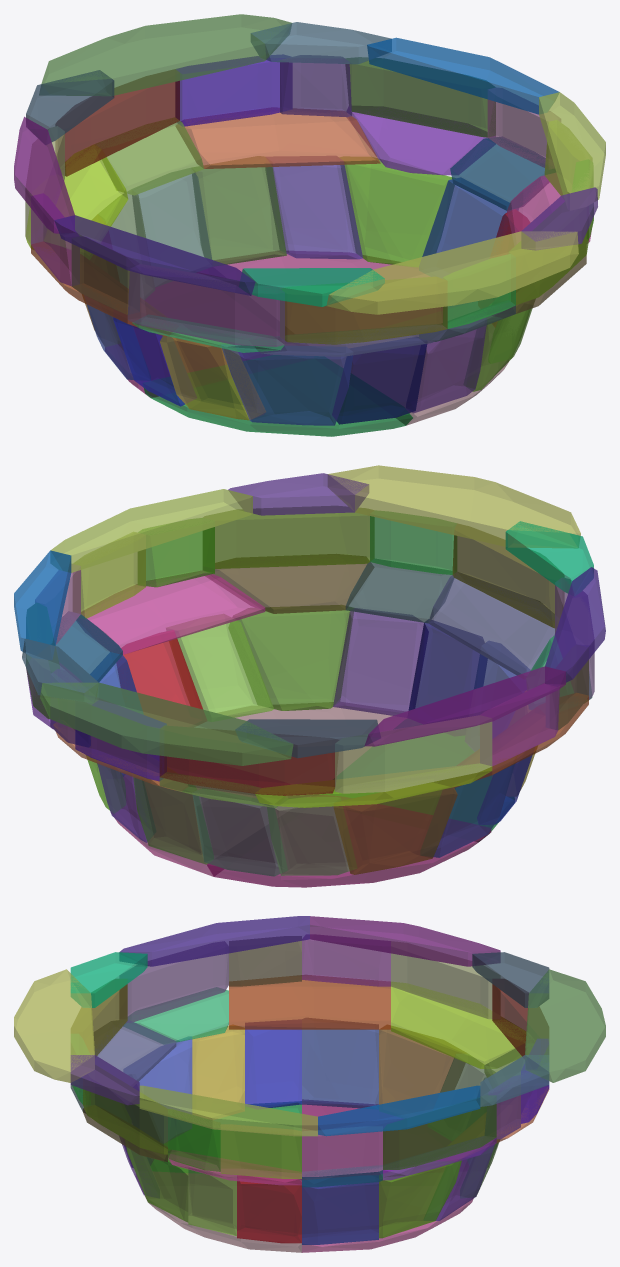
File: yellow_bowl.obj
3 renders of one model, top to bottom at view 1: azimuth 30°, elevation 25°; view 2: azimuth 150°, elevation 25°; view 3: azimuth 270°, elevation 25°, orthographic. The views are drawn at different scales.
Visible parts, largest first — view 1: Shape_IndexedFaceSet_Shape_IndexedFaceSet.435, Shape_IndexedFaceSet.005_Shape_IndexedFaceSet.440, Shape_IndexedFaceSet.001_Shape_IndexedFaceSet.436, Shape_IndexedFaceSet.026_Shape_IndexedFaceSet.461, Shape_IndexedFaceSet.028_Shape_IndexedFaceSet.463, Shape_IndexedFaceSet.021_Shape_IndexedFaceSet.456, Shape_IndexedFaceSet.023_Shape_IndexedFaceSet.458, Shape_IndexedFaceSet.006_Shape_IndexedFaceSet.441, Shape_IndexedFaceSet.048_Shape_IndexedFaceSet.483, Shape_IndexedFaceSet.018_Shape_IndexedFaceSet.453, Shape_IndexedFaceSet.019_Shape_IndexedFaceSet.454, Shape_IndexedFaceSet.004_Shape_IndexedFaceSet.439 (+43 smaller); view 2: Shape_IndexedFaceSet.003_Shape_IndexedFaceSet.438, Shape_IndexedFaceSet.005_Shape_IndexedFaceSet.440, Shape_IndexedFaceSet_Shape_IndexedFaceSet.435, Shape_IndexedFaceSet.011_Shape_IndexedFaceSet.446, Shape_IndexedFaceSet.034_Shape_IndexedFaceSet.469, Shape_IndexedFaceSet.025_Shape_IndexedFaceSet.460, Shape_IndexedFaceSet.024_Shape_IndexedFaceSet.459, Shape_IndexedFaceSet.040_Shape_IndexedFaceSet.475, Shape_IndexedFaceSet.004_Shape_IndexedFaceSet.439, Shape_IndexedFaceSet.022_Shape_IndexedFaceSet.457, Shape_IndexedFaceSet.010_Shape_IndexedFaceSet.445, Shape_IndexedFaceSet.015_Shape_IndexedFaceSet.450 (+43 smaller); view 3: Shape_IndexedFaceSet.004_Shape_IndexedFaceSet.439, Shape_IndexedFaceSet.002_Shape_IndexedFaceSet.437, Shape_IndexedFaceSet.029_Shape_IndexedFaceSet.464, Shape_IndexedFaceSet.039_Shape_IndexedFaceSet.474, Shape_IndexedFaceSet.005_Shape_IndexedFaceSet.440, Shape_IndexedFaceSet_Shape_IndexedFaceSet.435, Shape_IndexedFaceSet.003_Shape_IndexedFaceSet.438, Shape_IndexedFaceSet.014_Shape_IndexedFaceSet.449, Shape_IndexedFaceSet.015_Shape_IndexedFaceSet.450, Shape_IndexedFaceSet.028_Shape_IndexedFaceSet.463, Shape_IndexedFaceSet.048_Shape_IndexedFaceSet.483, Shape_IndexedFaceSet.001_Shape_IndexedFaceSet.436 (+42 smaller).
Boxes of the visible parts, x1,y1,x2,y2 form: Shape_IndexedFaceSet_Shape_IndexedFaceSet.435: [39, 14, 291, 95]; Shape_IndexedFaceSet.005_Shape_IndexedFaceSet.440: [326, 231, 578, 314]; Shape_IndexedFaceSet.001_Shape_IndexedFaceSet.436: [143, 355, 412, 436]; Shape_IndexedFaceSet.026_Shape_IndexedFaceSet.461: [176, 108, 380, 168]; Shape_IndexedFaceSet.028_Shape_IndexedFaceSet.463: [127, 264, 284, 346]; Shape_IndexedFaceSet.021_Shape_IndexedFaceSet.456: [340, 157, 454, 266]; Shape_IndexedFaceSet.023_Shape_IndexedFaceSet.458: [280, 277, 447, 344]; Shape_IndexedFaceSet.006_Shape_IndexedFaceSet.441: [222, 346, 352, 425]; Shape_IndexedFaceSet.048_Shape_IndexedFaceSet.483: [345, 57, 495, 137]; Shape_IndexedFaceSet.018_Shape_IndexedFaceSet.453: [192, 156, 286, 265]; Shape_IndexedFaceSet.019_Shape_IndexedFaceSet.454: [266, 156, 362, 259]; Shape_IndexedFaceSet.004_Shape_IndexedFaceSet.439: [214, 251, 467, 345]; Shape_IndexedFaceSet.003_Shape_IndexedFaceSet.438: [207, 795, 491, 887]; Shape_IndexedFaceSet.005_Shape_IndexedFaceSet.440: [327, 465, 580, 548]; Shape_IndexedFaceSet_Shape_IndexedFaceSet.435: [40, 682, 293, 765]; Shape_IndexedFaceSet.011_Shape_IndexedFaceSet.446: [229, 605, 353, 710]; Shape_IndexedFaceSet.034_Shape_IndexedFaceSet.469: [203, 506, 374, 568]; Shape_IndexedFaceSet.025_Shape_IndexedFaceSet.460: [159, 726, 338, 795]; Shape_IndexedFaceSet.024_Shape_IndexedFaceSet.459: [76, 570, 265, 654]; Shape_IndexedFaceSet.040_Shape_IndexedFaceSet.475: [335, 716, 492, 793]; Shape_IndexedFaceSet.004_Shape_IndexedFaceSet.439: [111, 755, 312, 876]; Shape_IndexedFaceSet.022_Shape_IndexedFaceSet.457: [428, 572, 555, 678]; Shape_IndexedFaceSet.010_Shape_IndexedFaceSet.445: [333, 608, 428, 717]; Shape_IndexedFaceSet.015_Shape_IndexedFaceSet.450: [333, 781, 457, 874]; Shape_IndexedFaceSet.004_Shape_IndexedFaceSet.439: [302, 1172, 473, 1252]; Shape_IndexedFaceSet.002_Shape_IndexedFaceSet.437: [136, 1172, 301, 1252]; Shape_IndexedFaceSet.029_Shape_IndexedFaceSet.464: [229, 975, 390, 1029]; Shape_IndexedFaceSet.039_Shape_IndexedFaceSet.474: [391, 982, 525, 1068]; Shape_IndexedFaceSet.005_Shape_IndexedFaceSet.440: [14, 969, 94, 1082]; Shape_IndexedFaceSet_Shape_IndexedFaceSet.435: [525, 969, 605, 1082]; Shape_IndexedFaceSet.003_Shape_IndexedFaceSet.438: [302, 1100, 468, 1177]; Shape_IndexedFaceSet.014_Shape_IndexedFaceSet.449: [302, 1018, 378, 1108]; Shape_IndexedFaceSet.015_Shape_IndexedFaceSet.450: [379, 1025, 465, 1118]; Shape_IndexedFaceSet.028_Shape_IndexedFaceSet.463: [120, 941, 228, 1022]; Shape_IndexedFaceSet.048_Shape_IndexedFaceSet.483: [383, 1096, 496, 1169]; Shape_IndexedFaceSet.001_Shape_IndexedFaceSet.436: [151, 1101, 301, 1172].
Bounding box in the file's own units: 0.282 × 0.104 × 0.3375.
